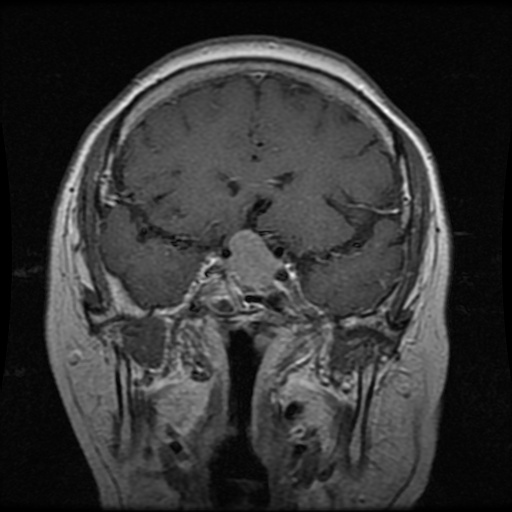pituitary: (219, 230, 281, 289)
